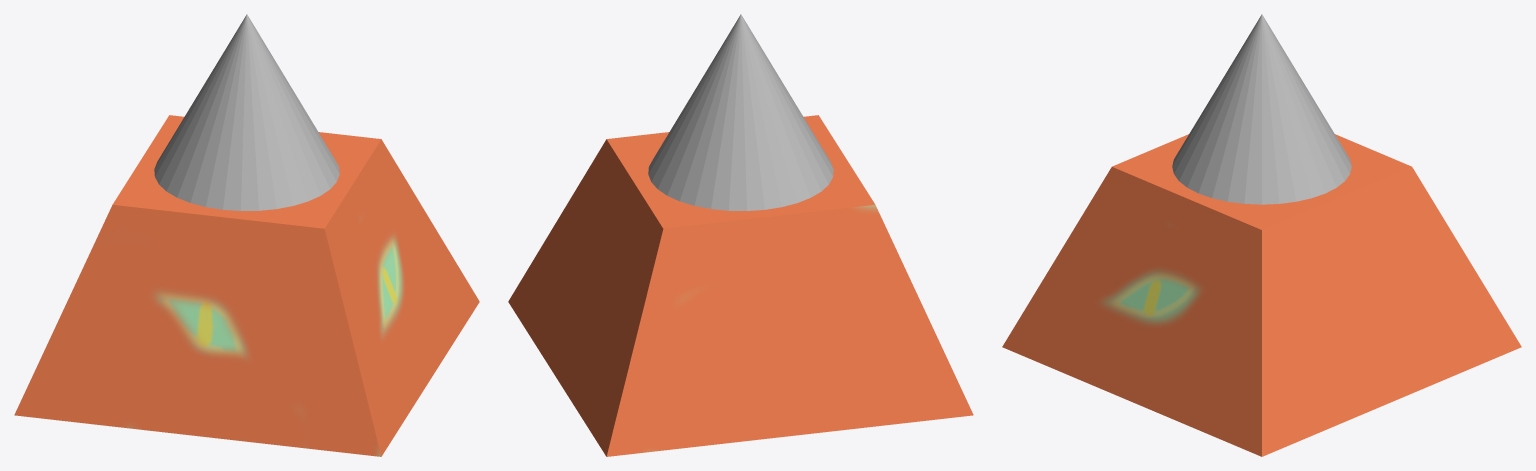
File: enemy.obj
3 views of the same model, side by side, from view 1: azimuth 30°, elevation 25°; view 2: azimuth 150°, elevation 25°; view 3: azimuth 270°, elevation 25° (orthographic). The views are drawn at different scales.
Parts seen in each view (by area): view 1: 立方体; view 2: 立方体; view 3: 立方体.
Boxes of the visible parts, x1,y1,x2,y2 form: 立方体: [14, 14, 479, 456]; 立方体: [508, 14, 973, 456]; 立方体: [1002, 14, 1521, 456].
Size of the model in its own units: 4.24 by 3 by 4.24.
1 material, 1 textured.
